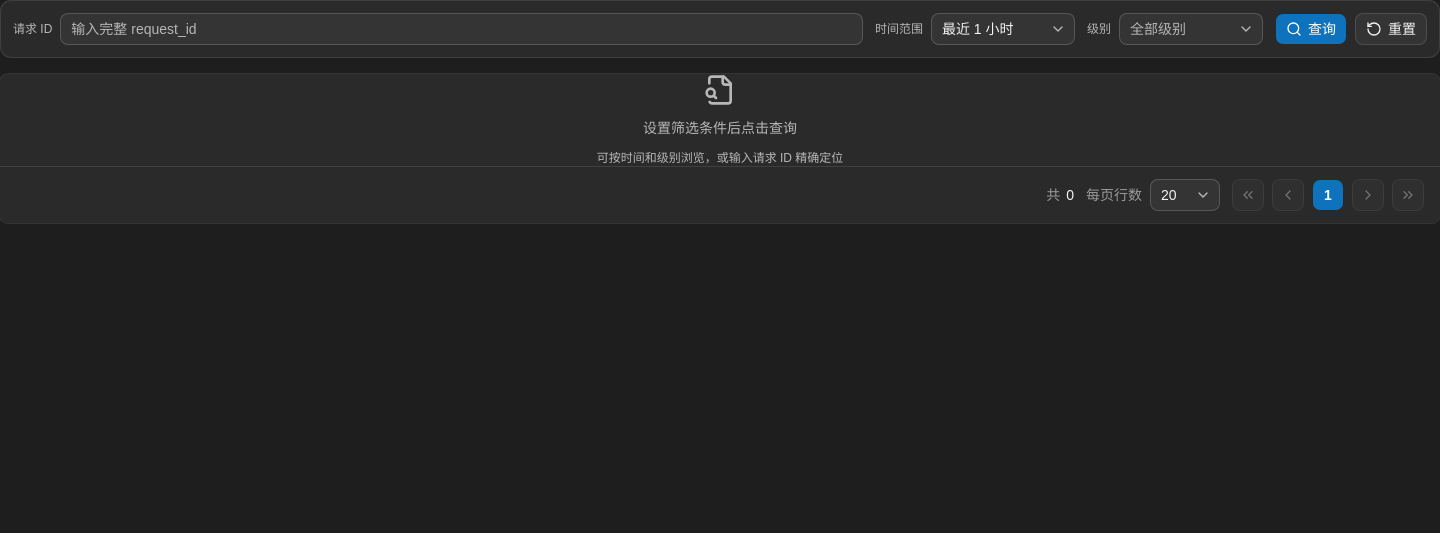
Test: 提交 request_id 查询后显示日志骨架，查询期间禁用重复提交
The width and height of the screenshot is (1440, 533).
Type "req-1" into the field with placeholder "输入完整 request_id" at point(462, 29), box [60, 13, 863, 45]
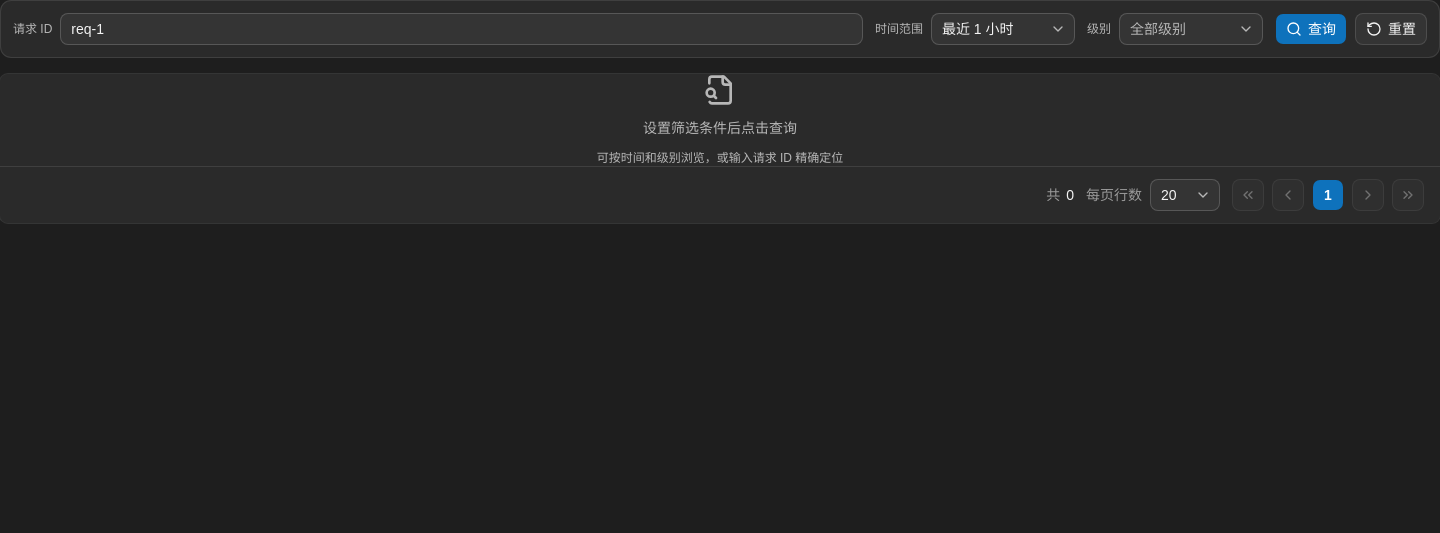
Click the button "查询" at point(1311, 29), box [1275, 13, 1347, 45]
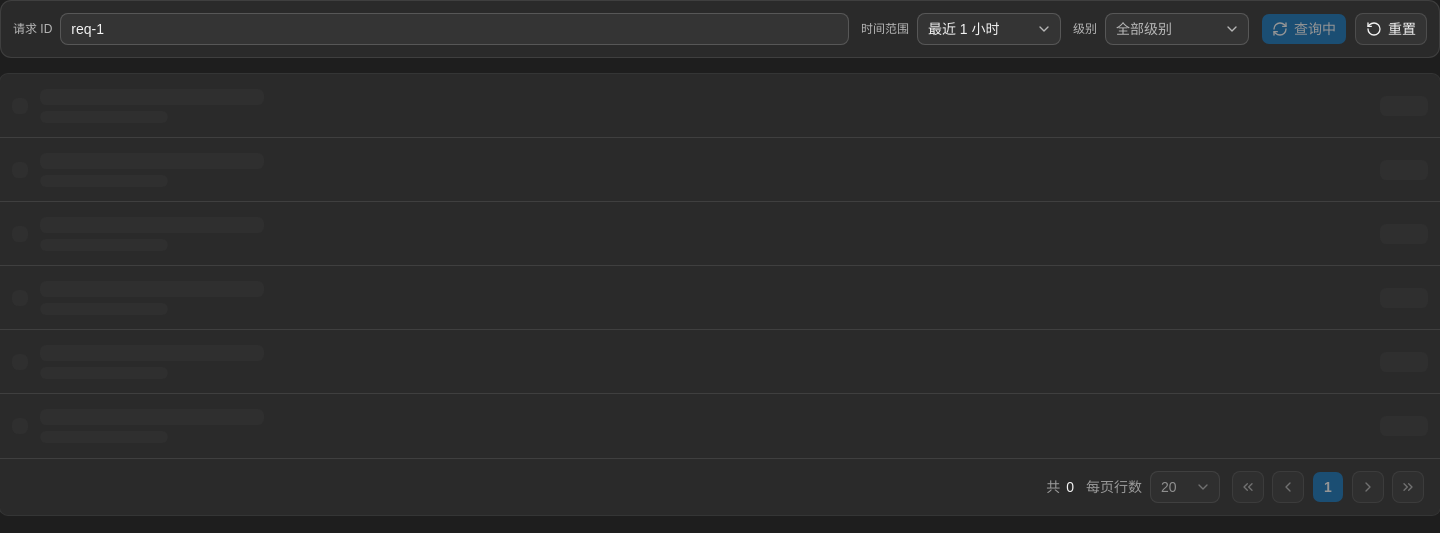
Check: the button "查询中" is disabled, box [1261, 13, 1347, 45]
